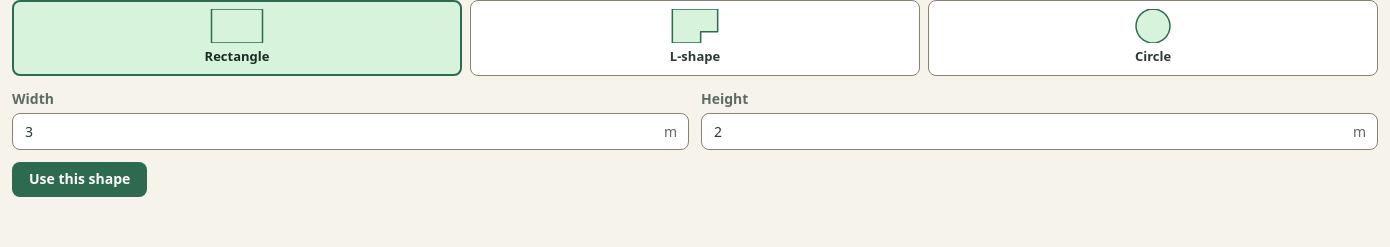
it: ShapePicker › shows an inline message when an L-shape notch is not smaller than the plot
Click the radio button labelled "L-shape" at (695, 38), box [470, 0, 920, 76]
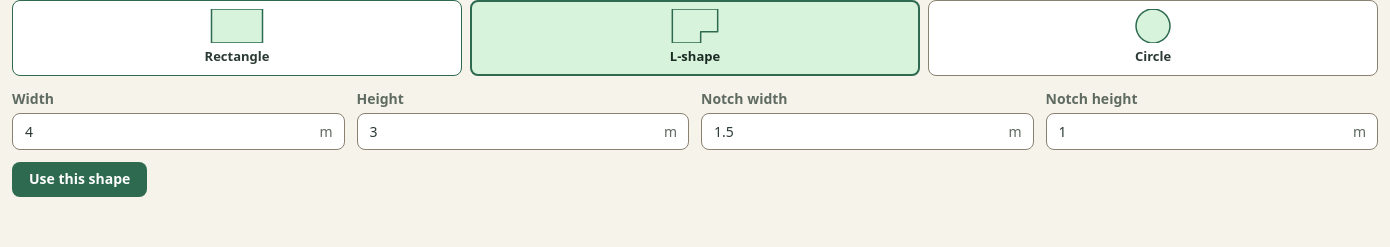
Replace the text in the number field labelled "Notch width" with "10" at (867, 131), box [701, 112, 1034, 150]
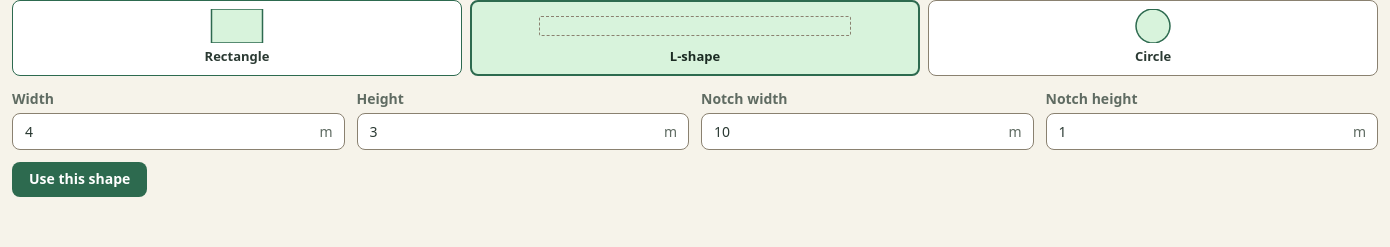
Click the button "Use this shape" at (80, 180), box [12, 162, 147, 197]
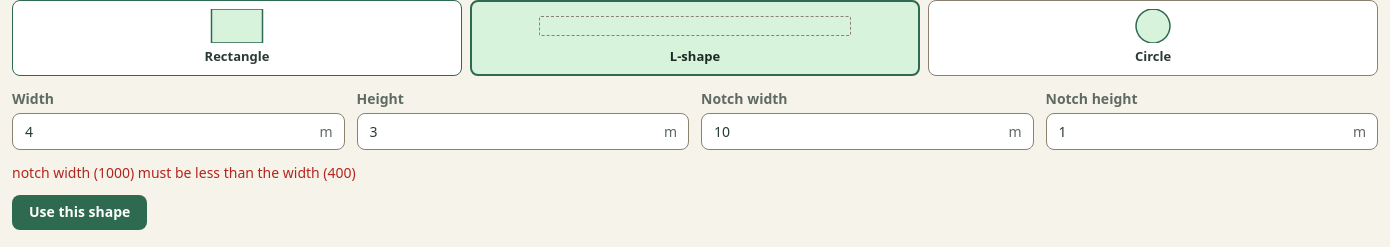
Check: the message "notch width (1000) must be less than the width (400)" is shown, box [12, 163, 356, 182]
